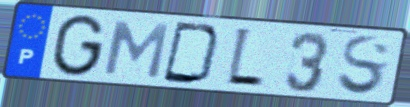3: (283, 28, 331, 94)
D: (160, 19, 225, 86)
G: (48, 13, 108, 79)
L: (223, 25, 267, 91)
M: (100, 19, 172, 81)
S: (335, 33, 393, 98)
